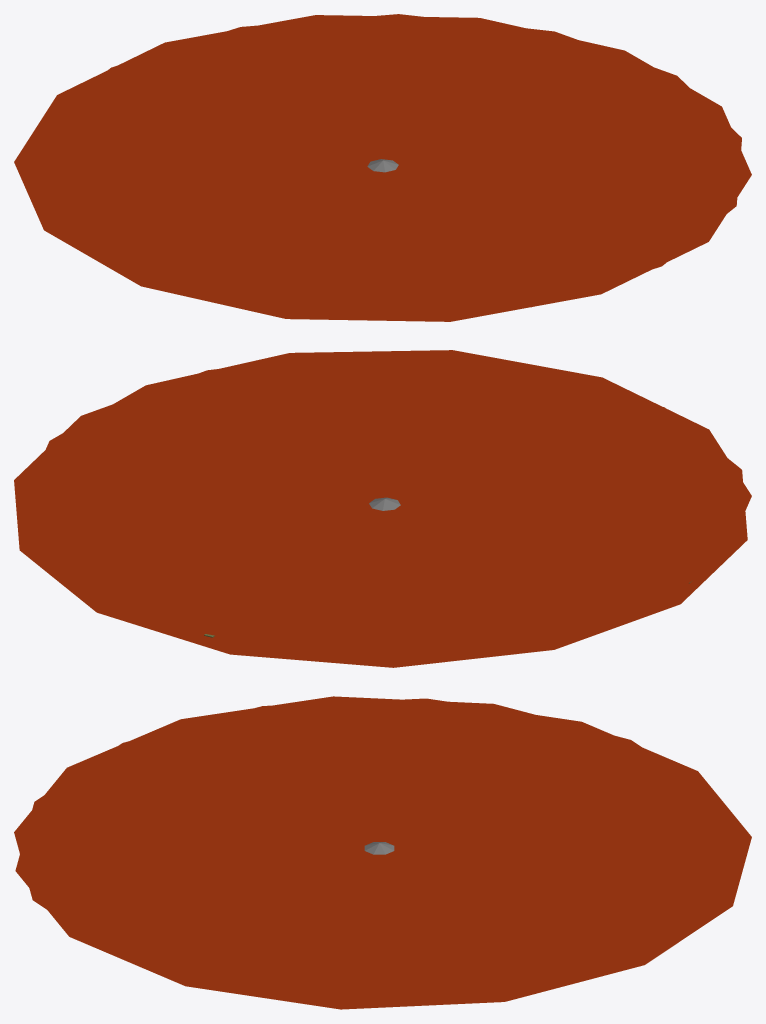
File: AGUSROTR.glb
The picture shows the model from 3 angles, top to bottom: view 1: azimuth 30°, elevation 25°; view 2: azimuth 150°, elevation 25°; view 3: azimuth 270°, elevation 25°; orthographic projection.
Parts seen in each view (by area): view 1: AGUSROTR | archived geometry; view 2: AGUSROTR | archived geometry; view 3: AGUSROTR | archived geometry.
Boxes of the visible parts, <box> form: AGUSROTR | archived geometry: <box>14,14,751,321</box>; AGUSROTR | archived geometry: <box>14,350,751,667</box>; AGUSROTR | archived geometry: <box>14,696,751,1009</box>.
Bounding box in the file's own units: 10.46 × 0.5141 × 10.48.
